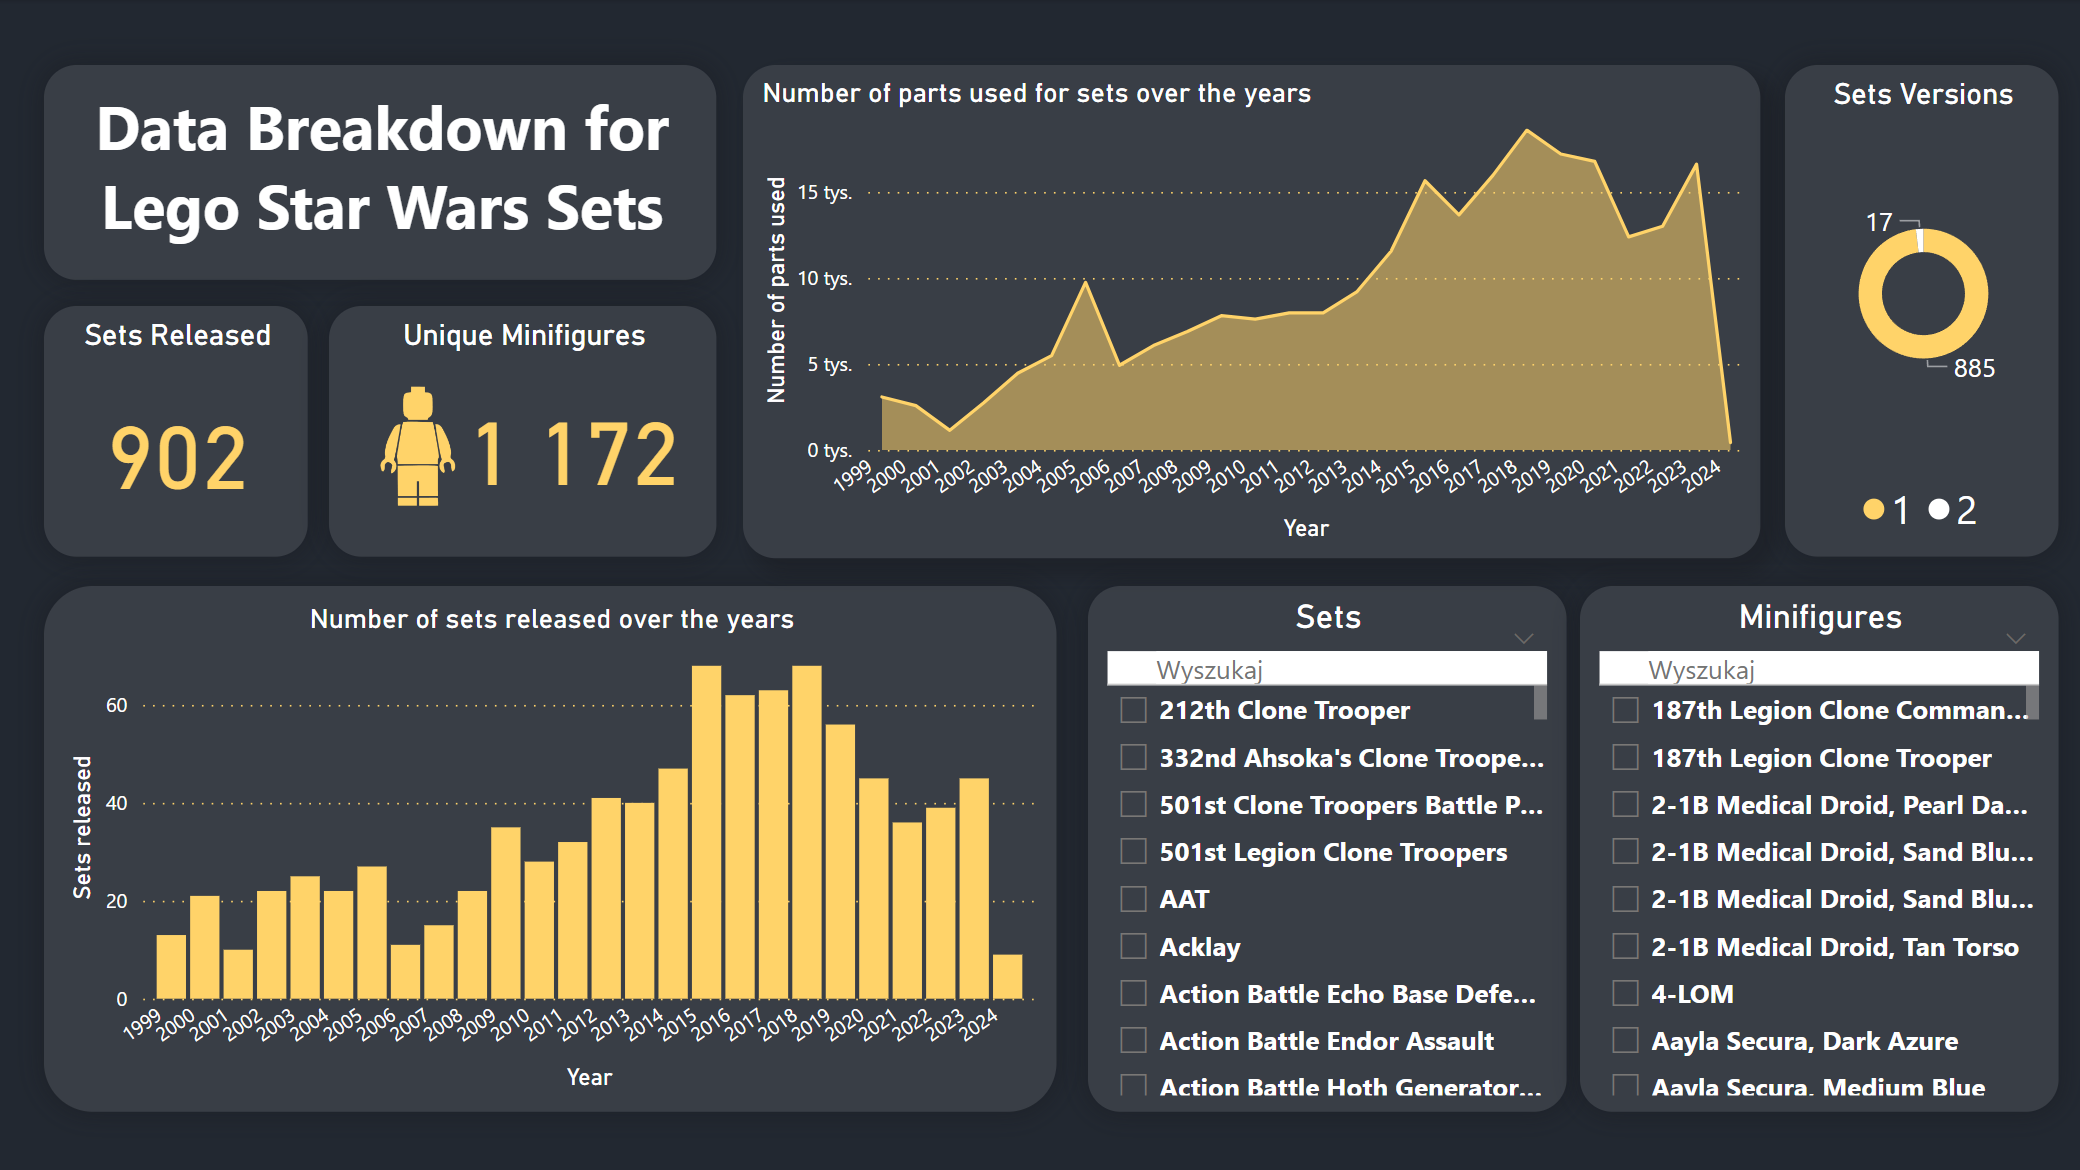

The dashboard page shown, as its layout file describes it:
{"tool":"powerbi","page":{"name":"Strona 1","canvas":[1280,720],"ordinal":0},"visuals":[{"type":"textbox","box":[26.9,40,413.4,132.1],"z":0},{"type":"card","title":"Sets Released","fields":{"Values":["CountNonNull(Inventories.id)"]},"box":[26.9,188.1,162.2,153.6],"z":1000},{"type":"clusteredColumnChart","title":"Number of sets released over the years","fields":{"Category":["Sets.year"],"Y":["CountNonNull(Sets.set_num)"]},"box":[26.9,360.1,622.3,322.5],"z":2000},{"type":"slicer","title":"Sets","fields":{"Values":["Sets.name"]},"box":[668.6,360,293.6,322.9],"z":3000},{"type":"actionButton","box":[-0.1,0.1,100,40],"z":4000},{"type":"cardVisual","title":"Unique Minifigures","fields":{"Data":["CountNonNull(Minifigs.fig_num)"]},"box":[202.4,188.2,238.1,153.8],"z":5000},{"type":"areaChart","title":"Number of parts used for sets over the years","fields":{"Category":["Sets.year"],"Y":["Sum(Sets.num_parts)"]},"box":[456.8,40.1,625,302.5],"z":6000},{"type":"donutChart","title":"Sets Versions","fields":{"Category":["Inventories.version"],"Y":["CountNonNull(Inventories.id)"]},"box":[1096.8,40.1,168.1,301.9],"z":7000},{"type":"slicer","title":"Minifigures","fields":{"Values":["Minifigs.name"]},"box":[970.7,360,293.6,322.9],"z":7001}]}

Visuals, with their boxes in screenshot pixels (x1, y1, x2, y2), scaled from the page's 1280x720 canvas onto the 2080x1170 screenshot:
textbox: [44, 65, 715, 280]
"Sets Released" card: [44, 306, 307, 555]
"Number of sets released over the years" clusteredColumnChart: [44, 585, 1055, 1109]
"Sets" slicer: [1086, 585, 1564, 1110]
actionButton: [0, 0, 162, 65]
"Unique Minifigures" cardVisual: [329, 306, 716, 556]
"Number of parts used for sets over the years" areaChart: [742, 65, 1758, 557]
"Sets Versions" donutChart: [1782, 65, 2055, 556]
"Minifigures" slicer: [1577, 585, 2054, 1110]
